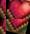heart: (6, 19, 30, 34), (0, 0, 6, 19)
